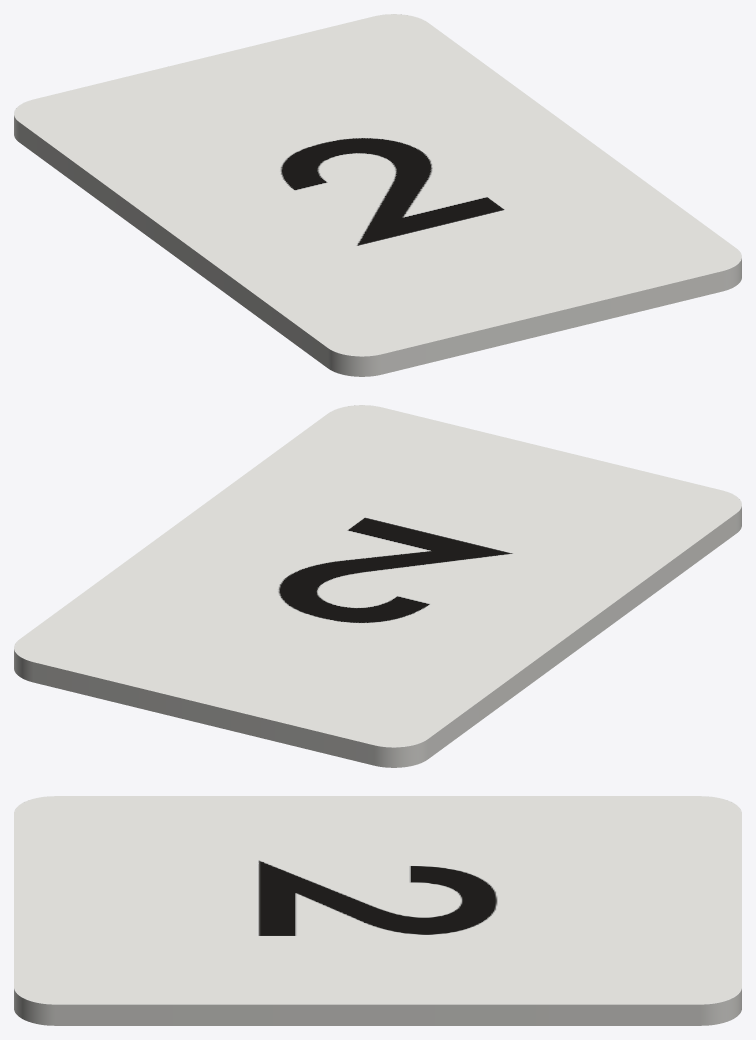
File: white_2.glb
3 renders of one model, top to bottom at view 1: azimuth 30°, elevation 25°; view 2: azimuth 150°, elevation 25°; view 3: azimuth 270°, elevation 25°, orthographic. The views are drawn at different scales.
Parts seen in each view (by area): view 1: white_2; view 2: white_2; view 3: white_2.
Part boxes in pixels (x1,y1,x2,y2): white_2: (14, 14, 741, 376); white_2: (14, 405, 741, 767); white_2: (14, 796, 741, 1025).
Size of the model in its own units: 0.042 by 0.002 by 0.062.
2 materials, 1 textured.
